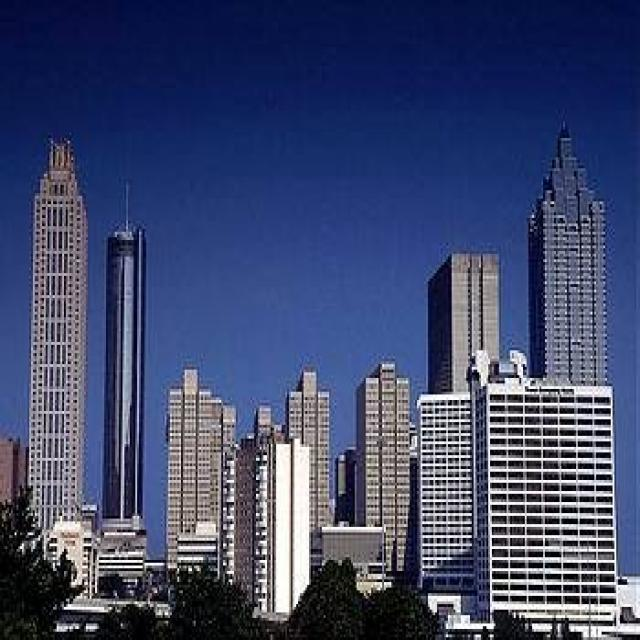building: (415, 352, 640, 640), (29, 133, 89, 601), (240, 361, 330, 640), (102, 177, 153, 602), (530, 112, 608, 383), (168, 364, 235, 640), (357, 358, 414, 580), (430, 253, 502, 391), (323, 522, 387, 605)
